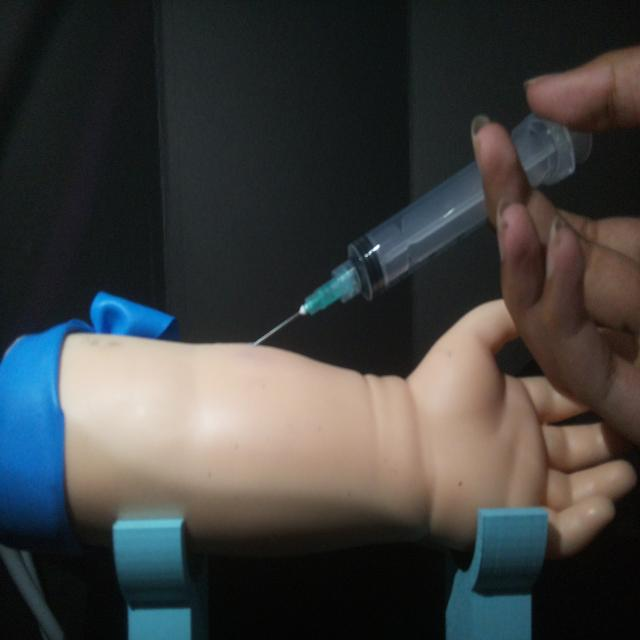28deg: (247, 106, 593, 350)
